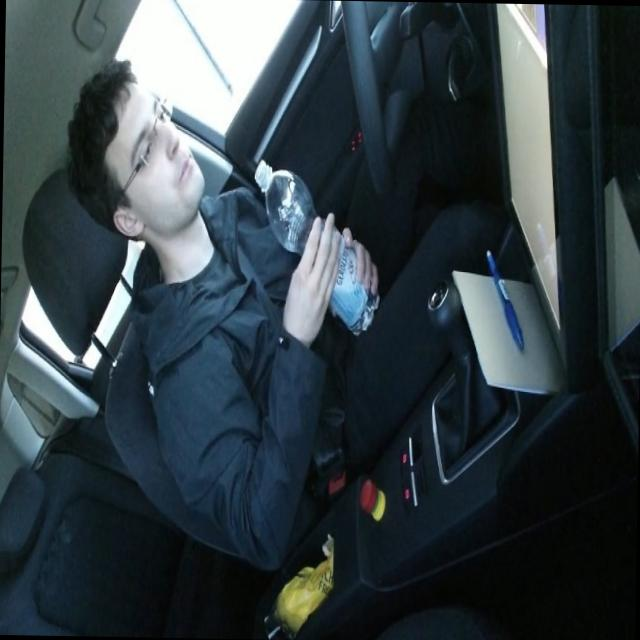pen: (483, 246, 526, 350)
